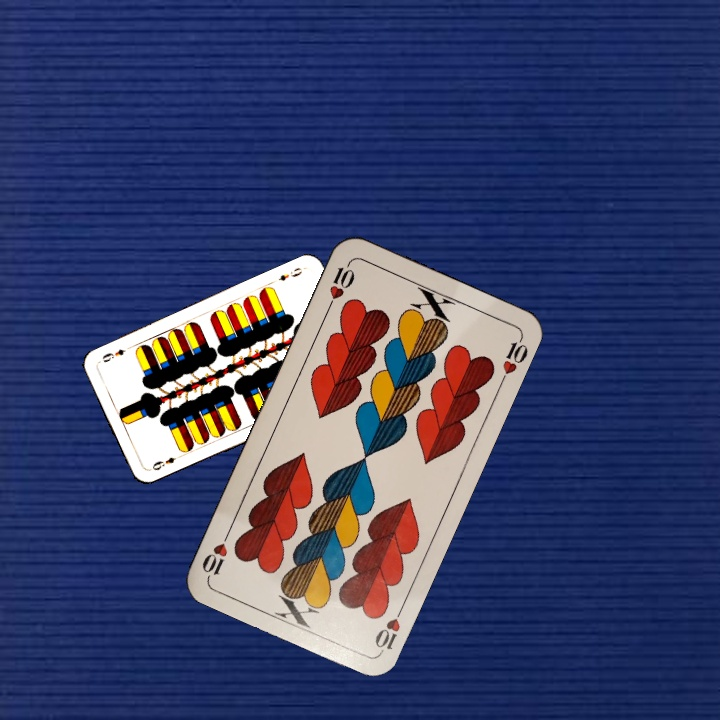E9: (148, 452, 184, 473), (274, 263, 307, 283)
H10: (370, 600, 407, 656), (322, 258, 358, 314)
